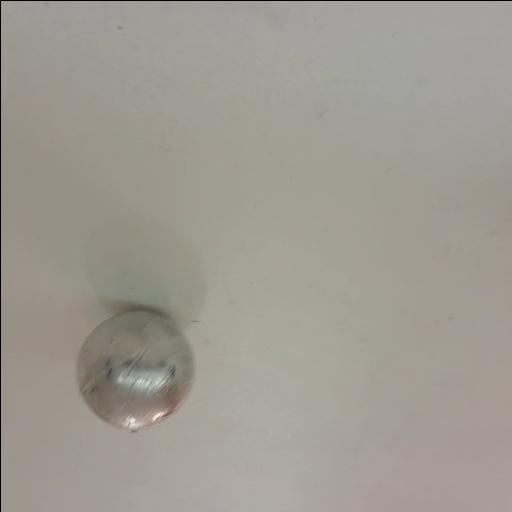alive: (73, 308, 199, 432)
